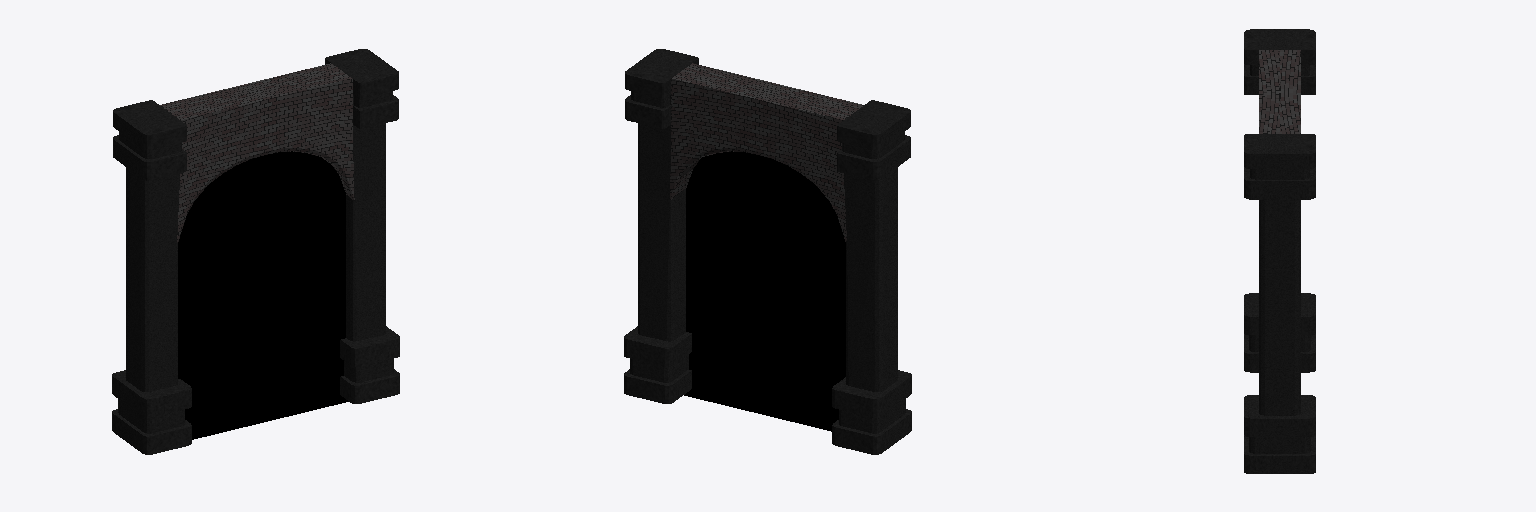
3 views of the same model, side by side, from view 1: azimuth 30°, elevation 25°; view 2: azimuth 150°, elevation 25°; view 3: azimuth 270°, elevation 25° (orthographic).
Visible parts, largest first — view 1: gate; view 2: gate; view 3: gate.
Boxes of the visible parts, <box> form: gate: <box>112,49,399,454</box>; gate: <box>624,49,911,454</box>; gate: <box>1244,29,1315,473</box>.
Size of the model in its own units: 3.97 by 4.86 by 0.9745.
1 materials, 1 textured.